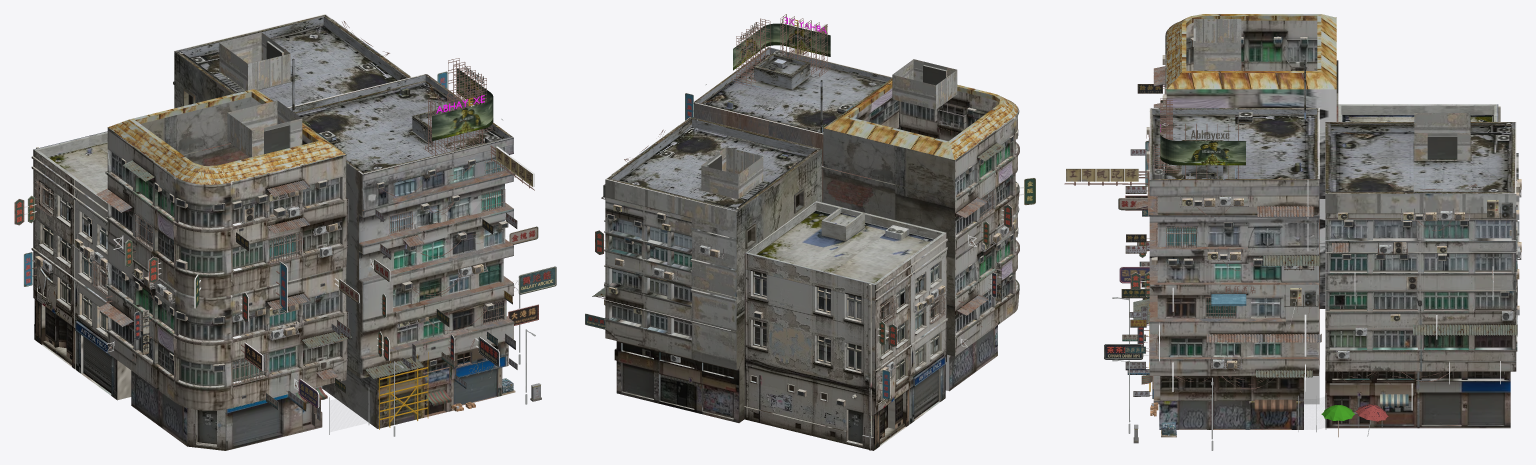
File: block-hkiv-3.glb
3 renders of one model, left to right at view 1: azimuth 30°, elevation 25°; view 2: azimuth 150°, elevation 25°; view 3: azimuth 270°, elevation 25°, orthographic. The views are drawn at different scales.
Parts seen in each view (by area): view 1: Object_161, Object_166, Object_156, Object_185, Object_196, Object_158, Object_155, Object_171, Object_200, Object_141, Object_159, Object_167 (+7 smaller); view 2: Object_185, Object_171, Object_156, Object_158, Object_161, Object_184, Object_172, Object_200, Object_196, Object_141, Object_155, Object_186 (+5 smaller); view 3: Object_171, Object_166, Object_156, Object_172, Object_161, Object_200, Object_167, Object_157, Object_155, Object_141, Object_496, Object_184 (+8 smaller).
Boxes of the visible parts, <box> form: Object_161: <box>80,90,508,450</box>; Object_166: <box>131,74,514,446</box>; Object_156: <box>175,14,513,174</box>; Object_185: <box>31,147,226,450</box>; Object_196: <box>111,152,339,386</box>; Object_158: <box>106,51,500,428</box>; Object_155: <box>35,159,513,417</box>; Object_171: <box>173,32,302,157</box>; Object_200: <box>108,89,345,184</box>; Object_141: <box>14,21,555,436</box>; Object_159: <box>14,71,556,407</box>; Object_167: <box>390,158,505,364</box>; Object_185: <box>744,233,948,450</box>; Object_171: <box>604,59,957,422</box>; Object_156: <box>605,47,892,211</box>; Object_158: <box>731,22,955,422</box>; Object_161: <box>607,78,1019,406</box>; Object_184: <box>745,201,946,284</box>; Object_172: <box>612,194,799,408</box>; Object_200: <box>824,78,1017,159</box>; Object_196: <box>900,101,1010,332</box>; Object_141: <box>586,14,1035,399</box>; Object_155: <box>694,103,995,324</box>; Object_186: <box>754,263,938,402</box>; Object_171: <box>1193,19,1519,428</box>; Object_166: <box>1147,138,1319,429</box>; Object_156: <box>1149,60,1516,193</box>; Object_172: <box>1329,220,1511,378</box>; Object_161: <box>1146,17,1520,335</box>; Object_200: <box>1166,14,1336,89</box>; Object_167: <box>1162,227,1280,387</box>; Object_157: <box>1149,91,1521,369</box>; Object_155: <box>1147,158,1319,429</box>; Object_141: <box>1064,88,1509,450</box>; Object_496: <box>1133,255,1517,377</box>; Object_184: <box>1338,104,1498,121</box>.
Bounding box in the file's own units: 46.23 × 36.95 × 49.95.
Materials: 30 (27 with a texture image).
